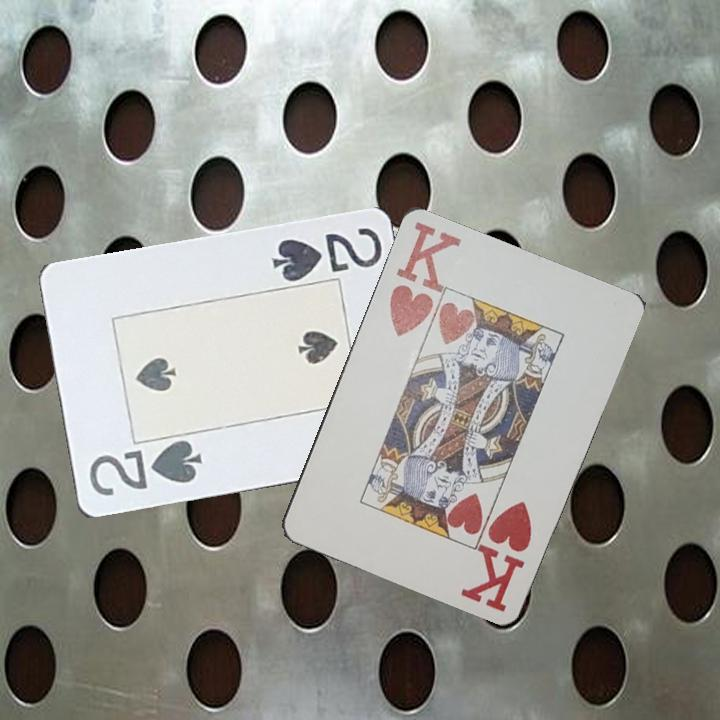2s: (85, 438, 205, 500), (267, 224, 385, 285)
Kh: (385, 217, 462, 339), (462, 497, 535, 615)
